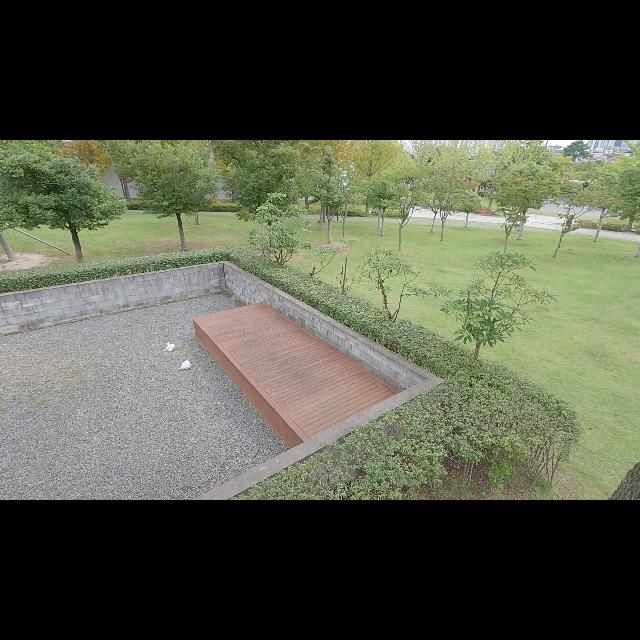trash: (178, 358, 194, 374), (164, 342, 176, 352)
